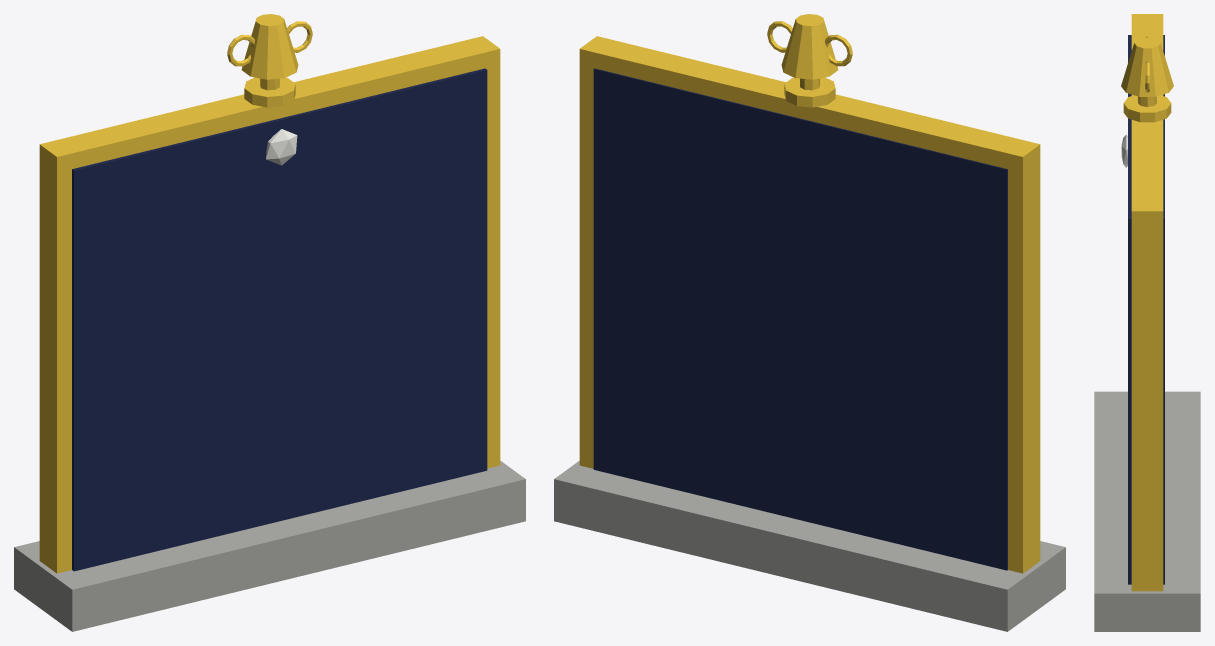
Rendered from LeaderboardStand.fbx.
3 renders of one model, left to right at view 1: azimuth 30°, elevation 25°; view 2: azimuth 150°, elevation 25°; view 3: azimuth 270°, elevation 25°, orthographic. The views are drawn at different scales.
Visible parts, largest first — view 1: Face, Frame, Plinth, Star; view 2: Face, Frame, Plinth; view 3: Frame, Plinth, Face, Star.
Boxes of the visible parts, left/top/right/bottom form: Face: left=72, top=68, right=487, bottom=571; Frame: left=39, top=14, right=500, bottom=573; Plinth: left=14, top=461, right=525, bottom=631; Star: left=266, top=129, right=297, bottom=165; Face: left=593, top=68, right=1007, bottom=570; Frame: left=579, top=14, right=1040, bottom=573; Plinth: left=554, top=461, right=1065, bottom=631; Frame: left=1121, top=14, right=1173, bottom=591; Plinth: left=1094, top=391, right=1200, bottom=631; Face: left=1128, top=35, right=1164, bottom=584; Star: left=1121, top=134, right=1127, bottom=167.
Bounding box in the file's own units: 9 × 10.15 × 2.
